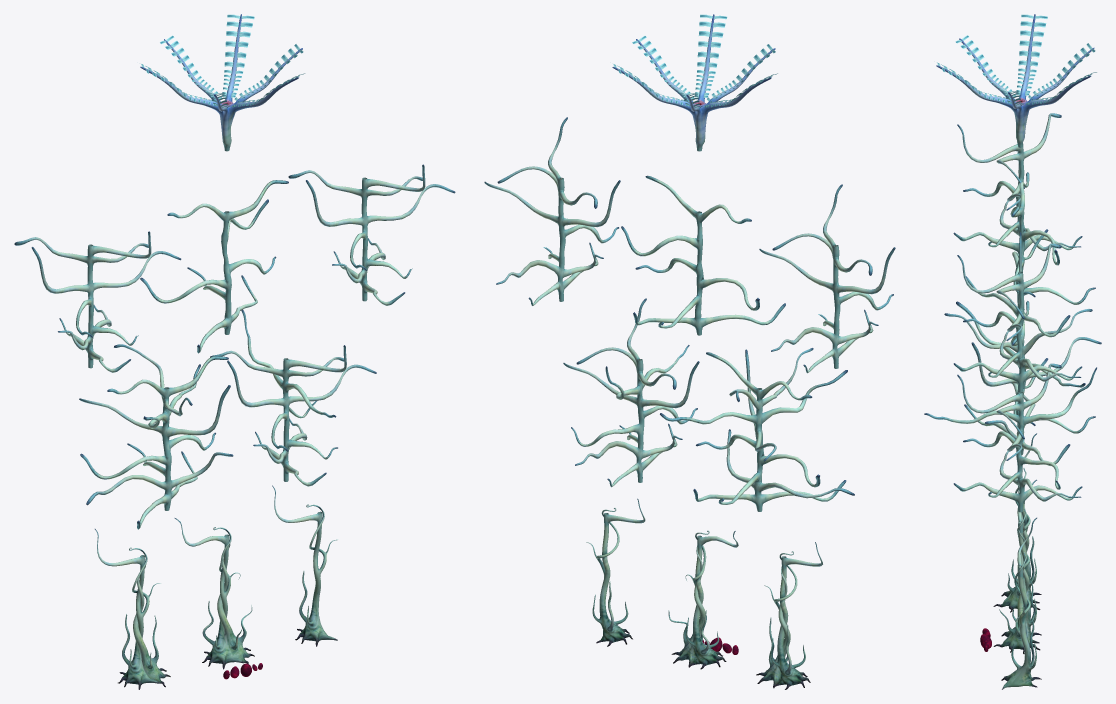
The model's file is Blood Kelp Pack.fbx.
3 views of the same model, side by side, from view 1: azimuth 30°, elevation 25°; view 2: azimuth 150°, elevation 25°; view 3: azimuth 270°, elevation 25° (orthographic). The views are drawn at different scales.
Visible parts, largest first — view 1: Kelp_blood_01_tile_02, Kelp_blood_01_tile_01, Kelp_blood_01_tile_04, Kelp_blood_01_tile_03 #138719, Kelp_blood_01_tile_03, Kelp_blood_01_start, Kelp_blood_01_start_02, Kelp_blood_01_end.001, Kelp_blood_01_end, Kelp_blood_01_start005; view 2: Kelp_blood_01_tile_02, Kelp_blood_01_tile_01, Kelp_blood_01_tile_04, Kelp_blood_01_tile_03 #138719, Kelp_blood_01_tile_03, Kelp_blood_01_start, Kelp_blood_01_end.001, Kelp_blood_01_start_02, Kelp_blood_01_end, Kelp_blood_01_start005; view 3: Kelp_blood_01_tile_01, Kelp_blood_01_tile_03 #138719, Kelp_blood_01_tile_02, Kelp_blood_01_tile_04, Kelp_blood_01_end.001, Kelp_blood_01_end, Kelp_blood_01_tile_03, Kelp_blood_01_start005, Kelp_blood_01_start_02, Kelp_blood_01_start.
Part boxes in pixels (x1=…): Kelp_blood_01_tile_02: x1=79, y1=344, x2=233, y2=529; Kelp_blood_01_tile_01: x1=210, y1=309, x2=376, y2=486; Kelp_blood_01_tile_04: x1=14, y1=231, x2=181, y2=372; Kelp_blood_01_tile_03 #138719: x1=288, y1=164, x2=455, y2=305; Kelp_blood_01_tile_03: x1=140, y1=180, x2=288, y2=353; Kelp_blood_01_start: x1=95, y1=529, x2=170, y2=689; Kelp_blood_01_start_02: x1=174, y1=518, x2=254, y2=669; Kelp_blood_01_end.001: x1=141, y1=14, x2=305, y2=107; Kelp_blood_01_end: x1=140, y1=14, x2=302, y2=151; Kelp_blood_01_start005: x1=272, y1=485, x2=337, y2=646; Kelp_blood_01_tile_02: x1=660, y1=348, x2=854, y2=511; Kelp_blood_01_tile_01: x1=563, y1=298, x2=699, y2=487; Kelp_blood_01_tile_04: x1=759, y1=184, x2=895, y2=373; Kelp_blood_01_tile_03 #138719: x1=484, y1=117, x2=620, y2=305; Kelp_blood_01_tile_03: x1=621, y1=175, x2=785, y2=335; Kelp_blood_01_start: x1=756, y1=542, x2=822, y2=689; Kelp_blood_01_end.001: x1=613, y1=14, x2=777, y2=107; Kelp_blood_01_start_02: x1=668, y1=530, x2=738, y2=669; Kelp_blood_01_end: x1=612, y1=14, x2=775, y2=151; Kelp_blood_01_start005: x1=586, y1=498, x2=645, y2=646; Kelp_blood_01_tile_01: x1=924, y1=363, x2=1096, y2=512; Kelp_blood_01_tile_03 #138719: x1=953, y1=232, x2=1082, y2=392; Kelp_blood_01_tile_02: x1=944, y1=301, x2=1101, y2=465; Kelp_blood_01_tile_04: x1=953, y1=113, x2=1082, y2=253; Kelp_blood_01_end.001: x1=937, y1=14, x2=1096, y2=105; Kelp_blood_01_end: x1=936, y1=14, x2=1094, y2=147; Kelp_blood_01_tile_03: x1=966, y1=172, x2=1095, y2=337; Kelp_blood_01_start005: x1=1001, y1=517, x2=1041, y2=689; Kelp_blood_01_start_02: x1=993, y1=479, x2=1041, y2=654; Kelp_blood_01_start: x1=993, y1=433, x2=1041, y2=612.
Bounding box in the file's own units: 28.64 × 40.16 × 10.84.
